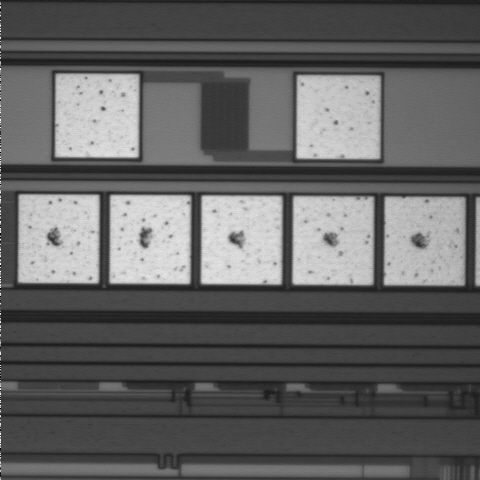pad: (201, 196, 282, 284), (110, 195, 190, 284), (19, 195, 99, 283), (293, 197, 373, 285), (56, 74, 139, 157), (297, 76, 380, 159), (385, 198, 463, 285)
